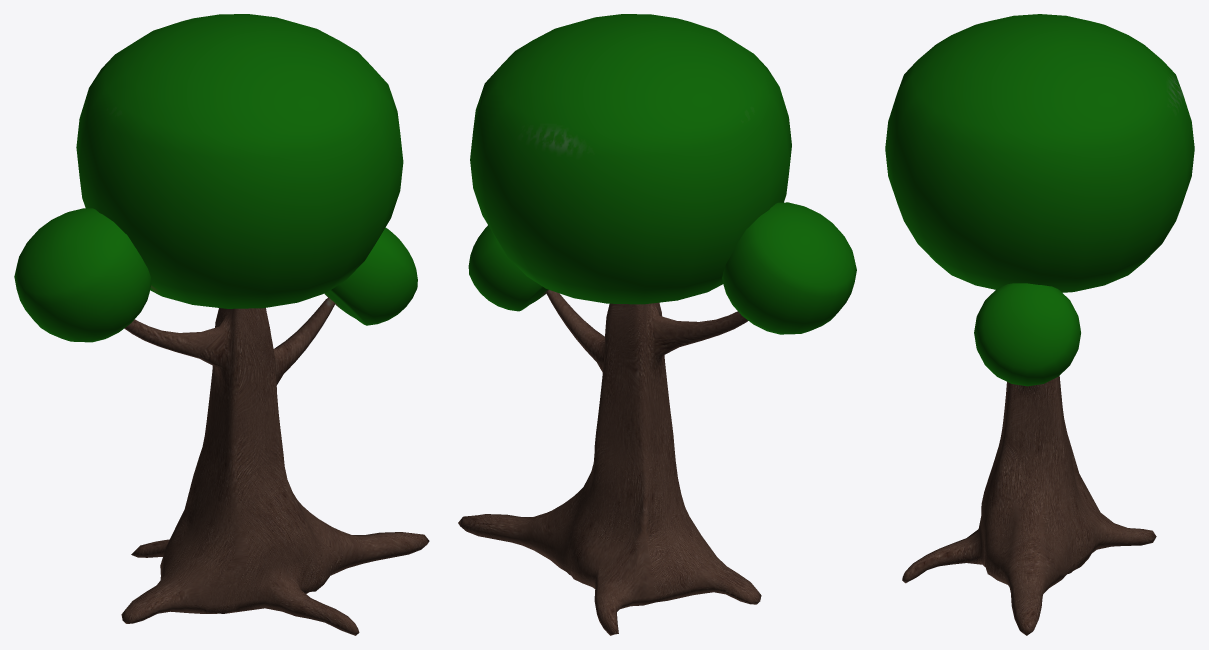
Rendered from Tree2.fbx.
3 renders of one model, left to right at view 1: azimuth 30°, elevation 25°; view 2: azimuth 150°, elevation 25°; view 3: azimuth 270°, elevation 25°, orthographic. The views are drawn at different scales.
Parts seen in each view (by area): view 1: Tree5; view 2: Tree5; view 3: Tree5.
Part boxes in pixels (x1,y1,x2,y2): Tree5: (14,14,429,635); Tree5: (458,14,856,635); Tree5: (885,14,1194,635).
Size of the model in its own units: 5.09 by 6.8 by 3.62.
1 material, 1 textured.
